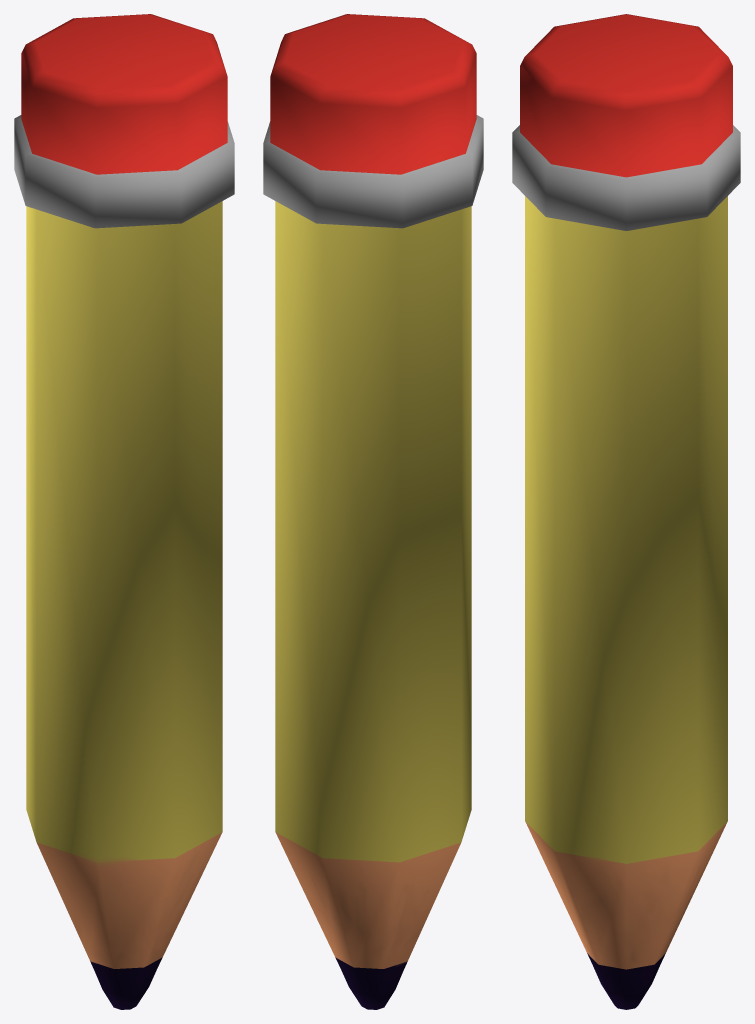
The model's file is pencil.fbx.
3 renders of one model, left to right at view 1: azimuth 30°, elevation 25°; view 2: azimuth 150°, elevation 25°; view 3: azimuth 270°, elevation 25°, orthographic.
Parts seen in each view (by area): view 1: Cylinder; view 2: Cylinder; view 3: Cylinder.
Boxes of the visible parts, <box> form: Cylinder: <box>14,14,234,1009</box>; Cylinder: <box>263,14,483,1009</box>; Cylinder: <box>512,14,740,1009</box>.
Bounding box in the file's own units: 4.41 × 20.3 × 4.41.
